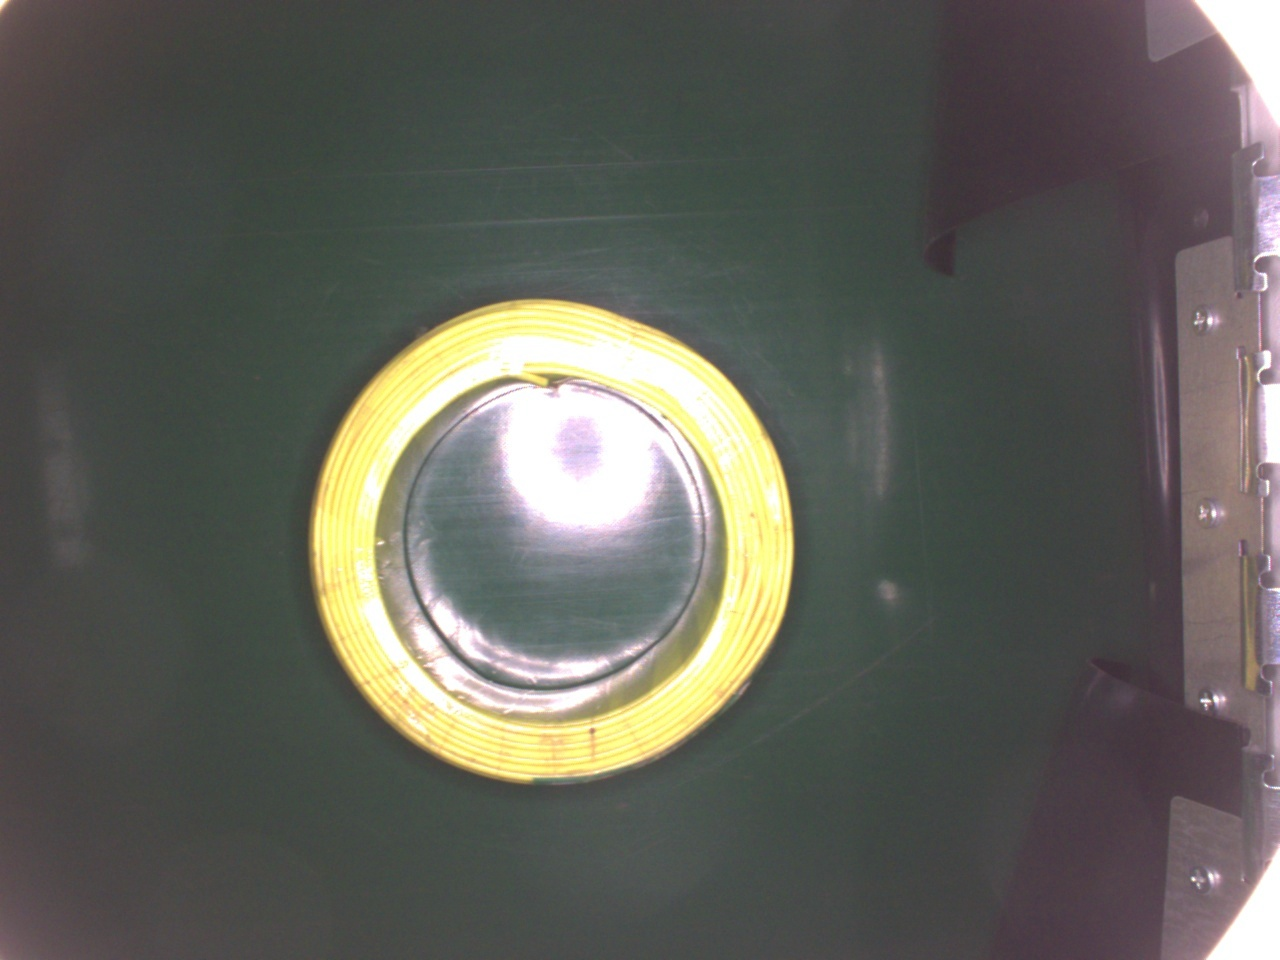yellow: (302, 284, 786, 778)
